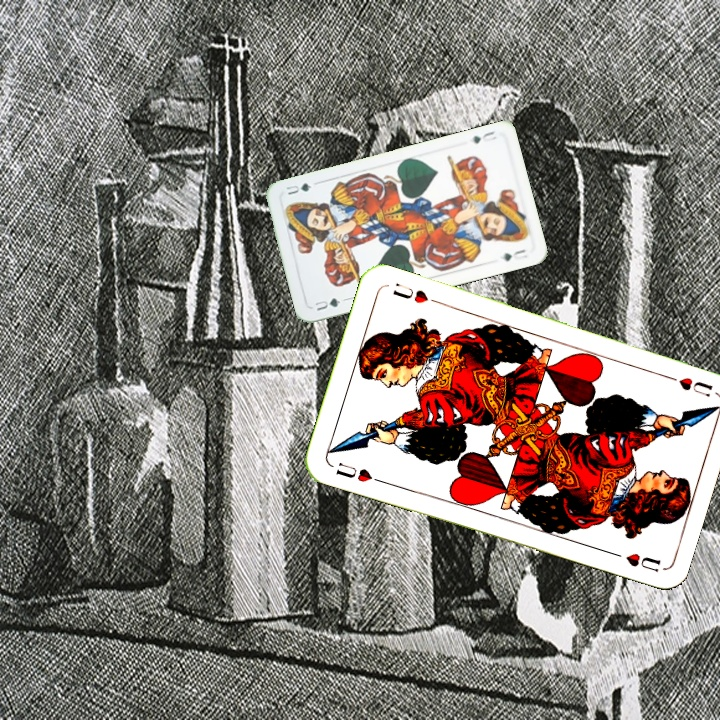GU: (311, 294, 349, 313), (468, 127, 499, 146)
HU: (659, 370, 715, 399), (331, 458, 385, 486)
